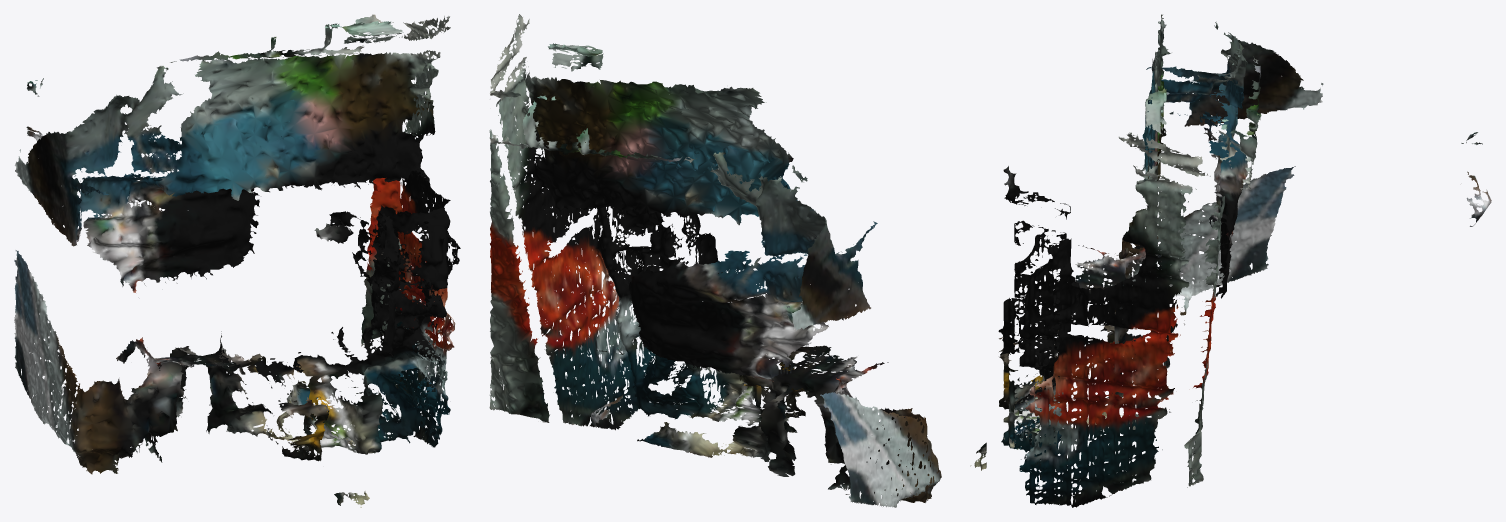
File: color_model_f001_20251226_165904.obj
The picture shows the model from 3 angles, left to right: view 1: azimuth 30°, elevation 25°; view 2: azimuth 150°, elevation 25°; view 3: azimuth 270°, elevation 25°; orthographic projection. The views are drawn at different scales.
Size of the model in its own units: 2.33 by 2.32 by 2.63.
